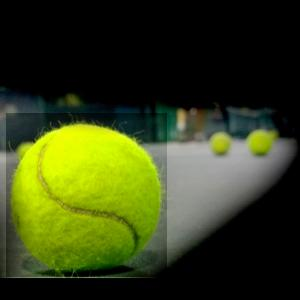TennisBall: (7, 114, 169, 279)
